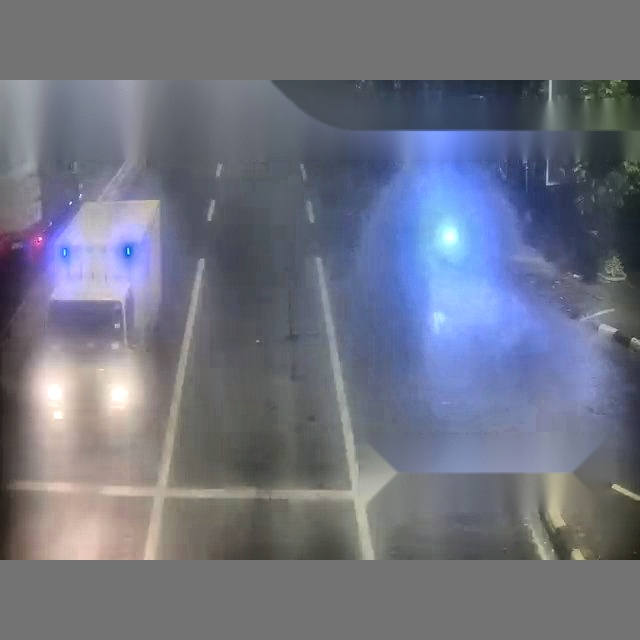Bis: (195, 122, 638, 557)
